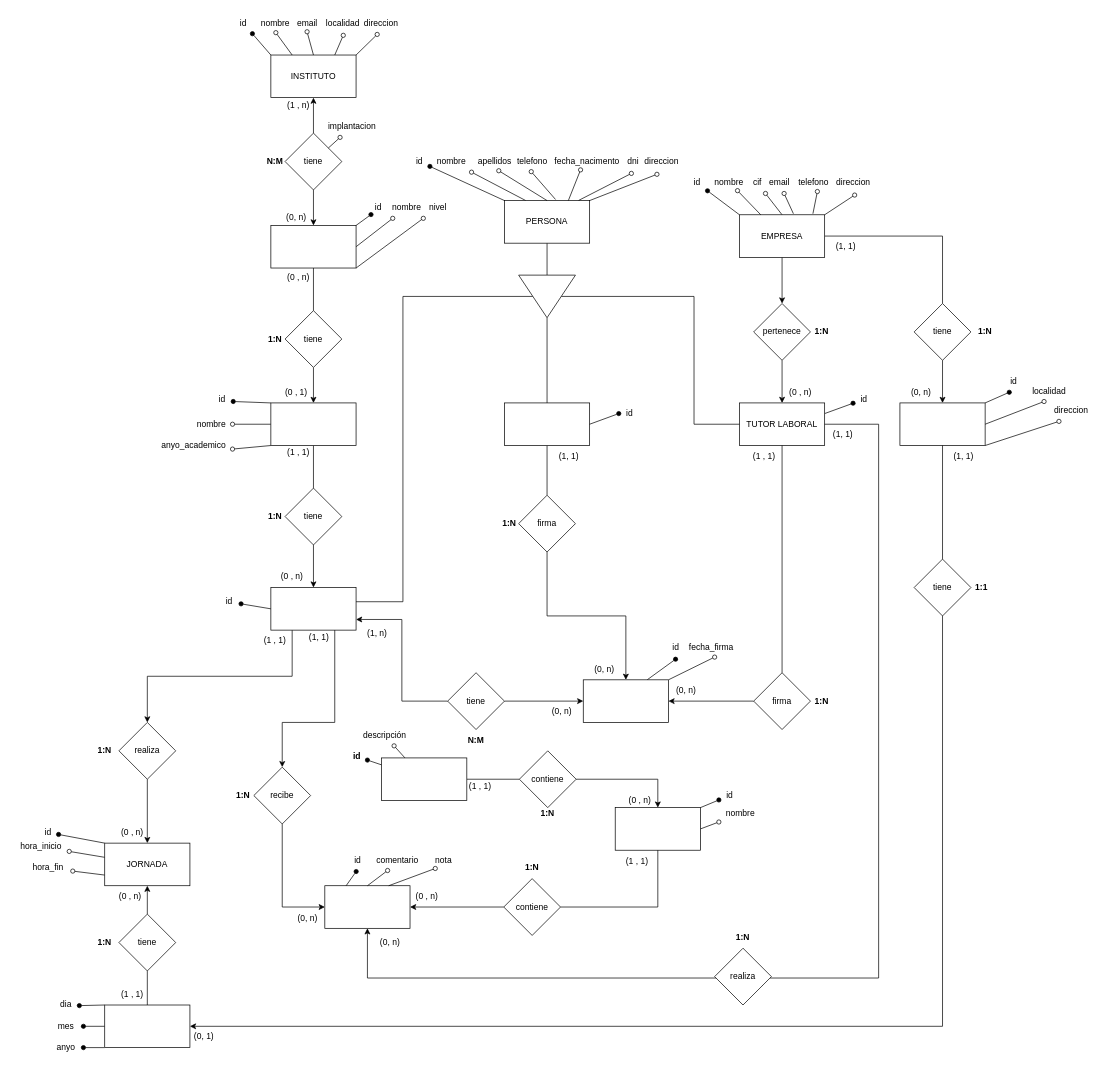
The diagram is 1108 pixels wide and 1070 high, and some of its shapes have lost their labels. The centre of each missing label's shape, as x and y in pixels:
"ACTIVIDAD FORMATIVA" goes at pixel 657 828.
"ALUMNO" goes at pixel 313 608.
"CALENDARIO" goes at pixel 147 1026.
"CICLO FORMATIVO" goes at pixel 313 246.
"COMPETENCIA" goes at pixel 424 779.
"CONVENIO" goes at pixel 625 700.
"CURSO" goes at pixel 313 424.
"EVALUACION" goes at pixel 367 906.
"SEDE" goes at pixel 942 424.
"TUTOR DOCENTE" goes at pixel 547 424.
